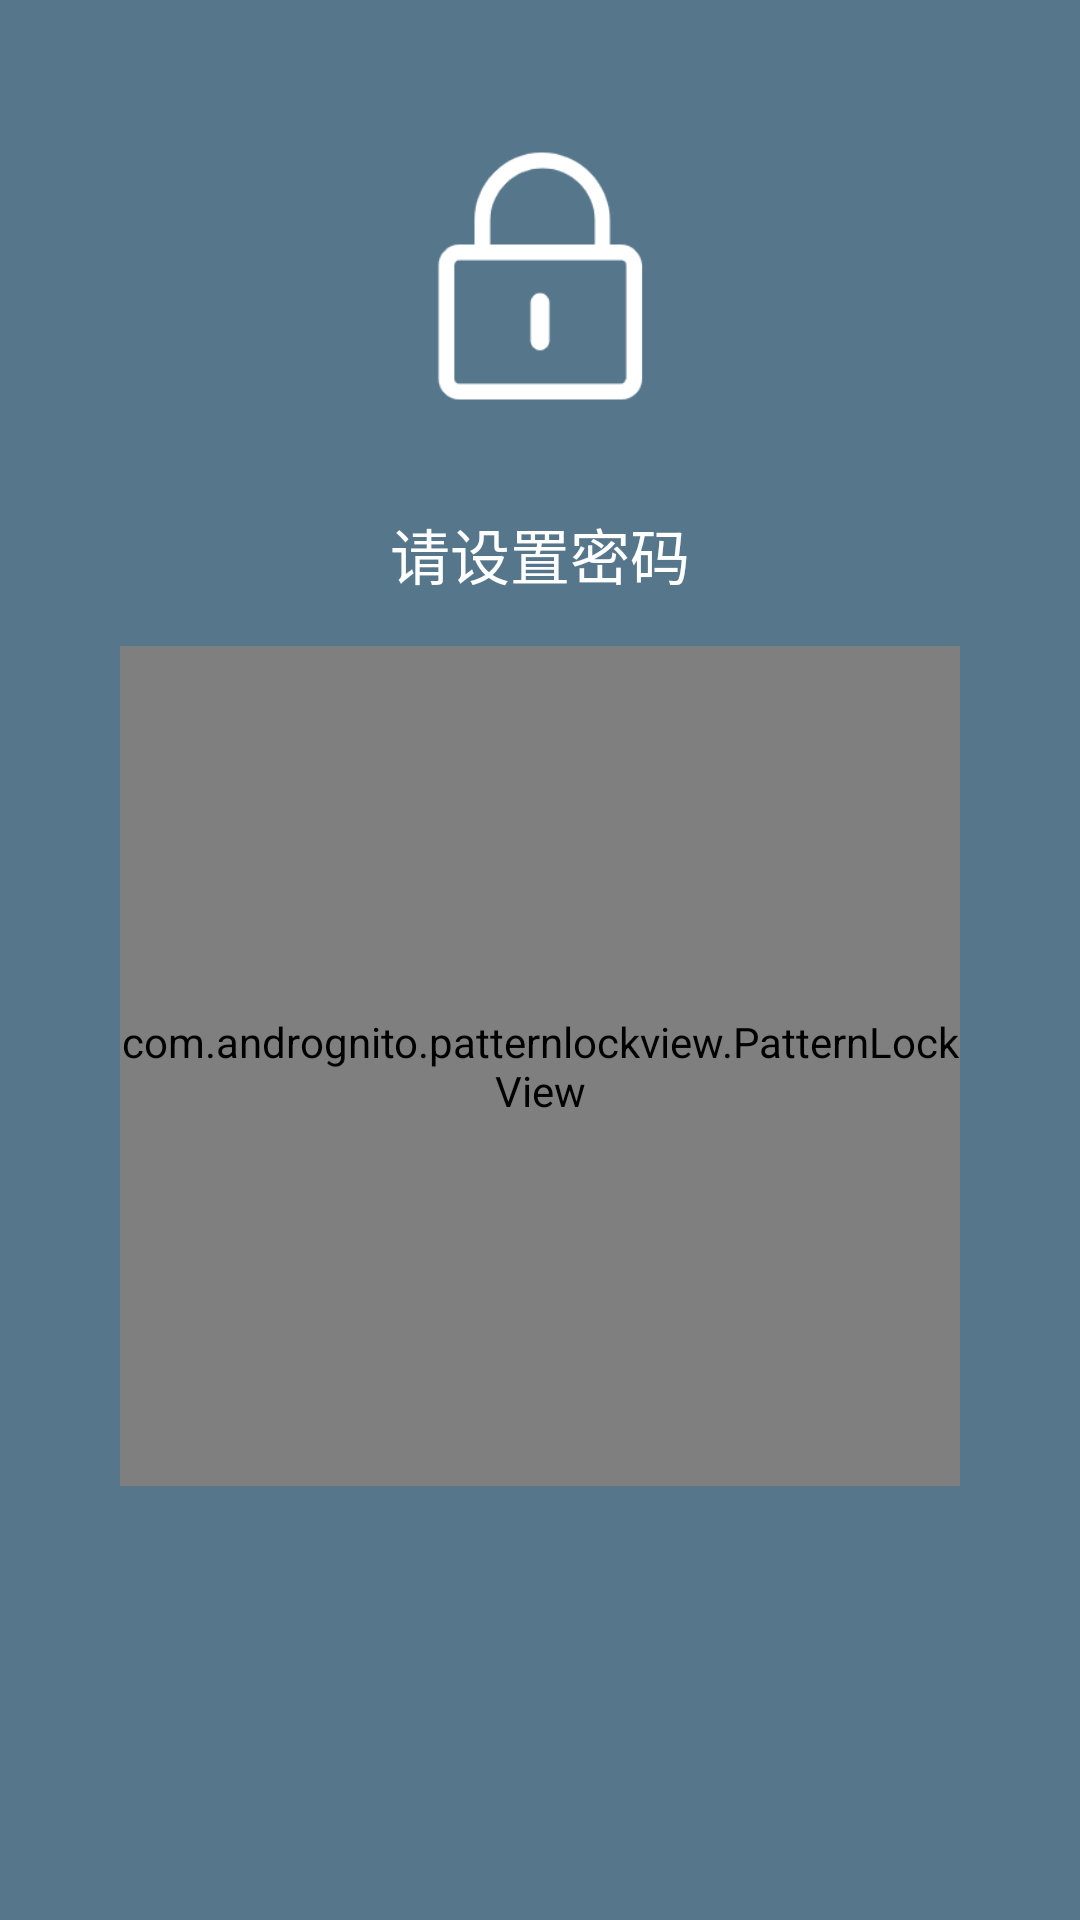

Locate icon controls on the screen. Image size 1080px x 1920px, boxes as bbox=(x1, y1, x2, y2).
password: bbox=(438, 152, 643, 400)
